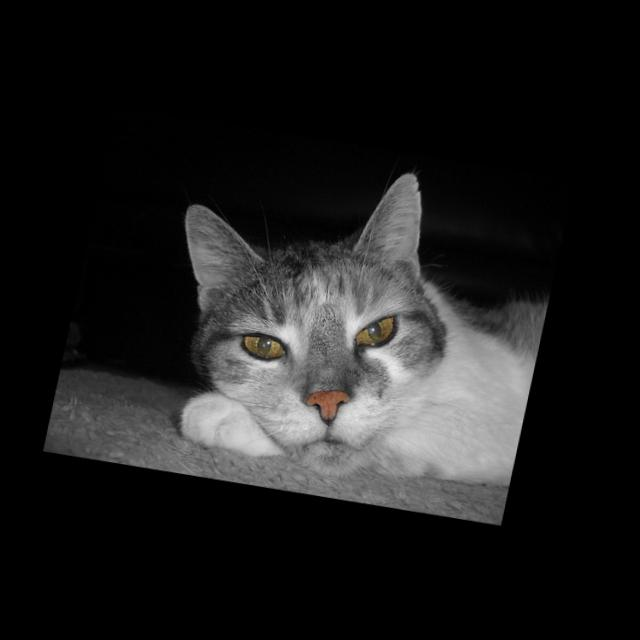animals: (154, 139, 441, 433)
